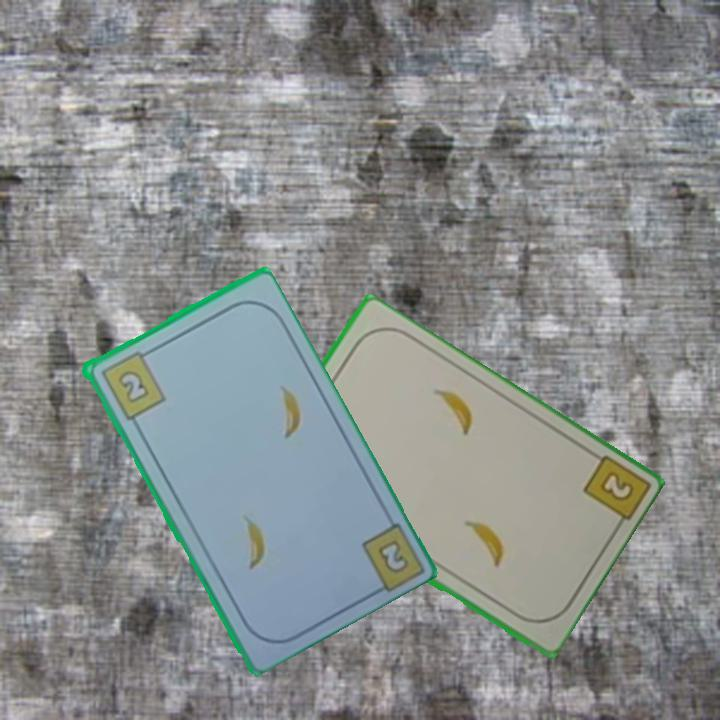2b: (96, 345, 168, 423), (373, 536, 412, 577), (595, 467, 637, 505)
